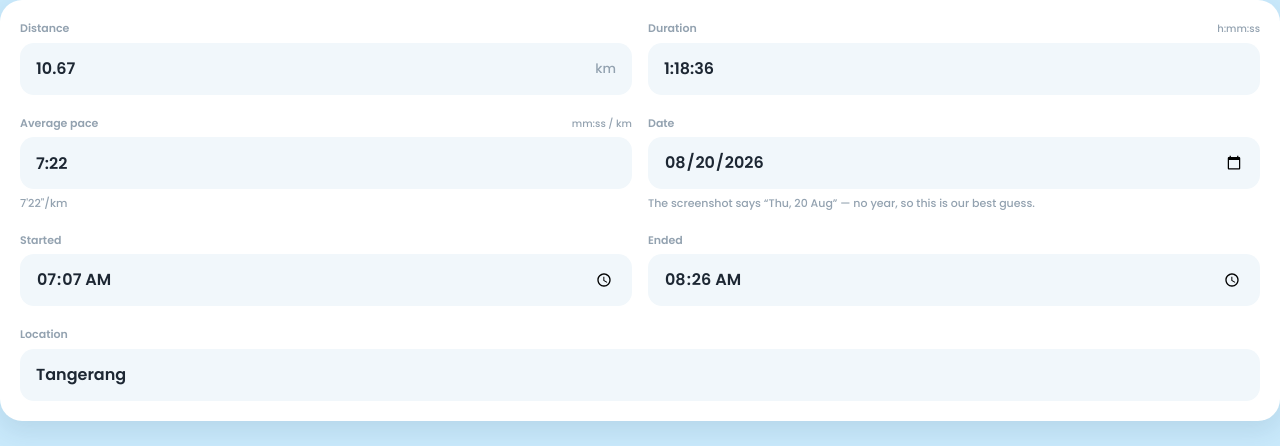
HeroFields — the editing wiring › pace is masked mm:ss
The image size is (1280, 446).
Type "802" into the field named "Average pace, minutes and seconds per kilometre".
click(326, 163); type("802")  # box [20,137,632,189]
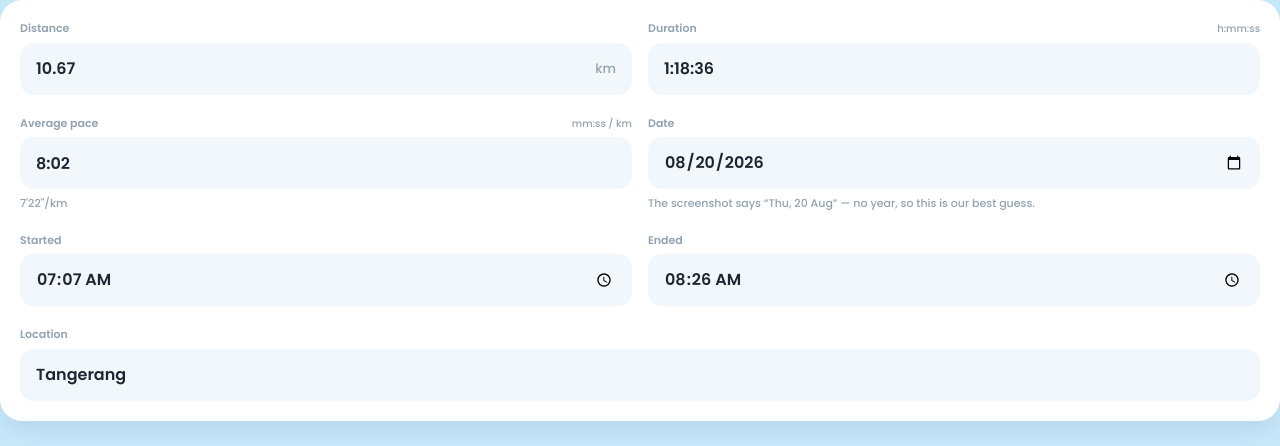
Now the field named "Average pace, minutes and seconds per kilometre" holds "8:02", box [20,137,632,189]
